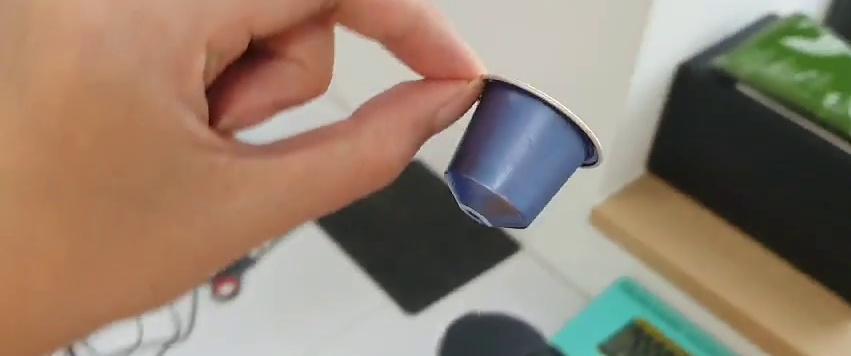capsule_7: (447, 70, 607, 230)
